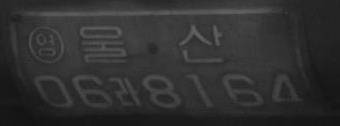0: (32, 74, 73, 109)
1: (182, 72, 219, 109)
4: (271, 70, 307, 109)
6: (220, 72, 264, 110), (73, 73, 113, 110)
8: (142, 72, 182, 109)
라: (114, 73, 142, 107)
영: (27, 24, 65, 64)
울산_D: (78, 22, 224, 65)
